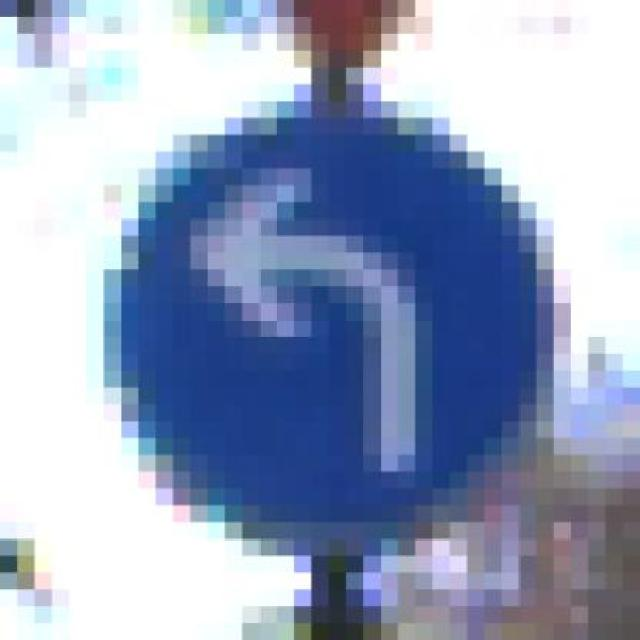Turn left ahead: (86, 84, 571, 539)
